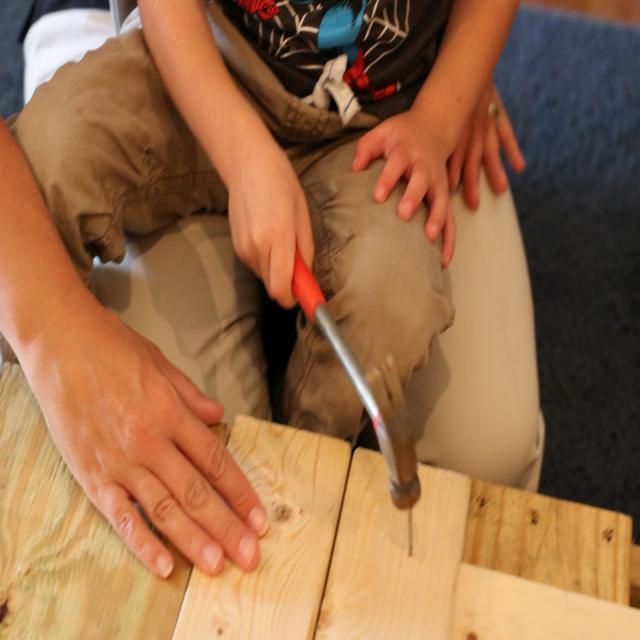hammer: (274, 255, 432, 531)
